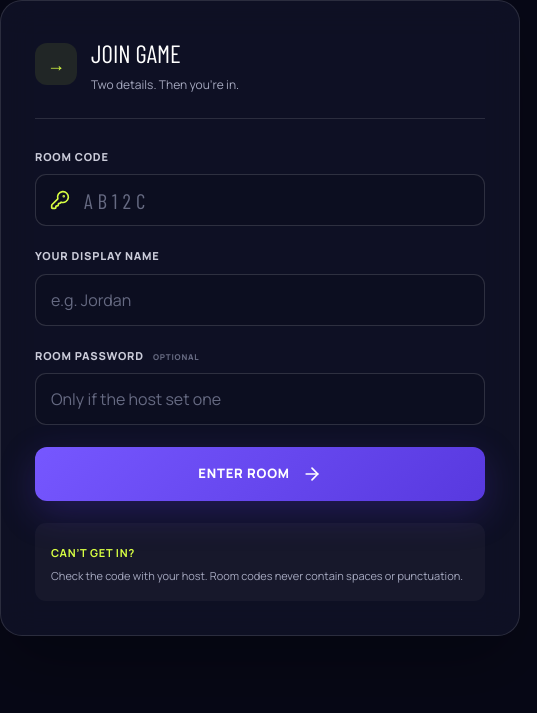
Test: JoinGameForm › rejects malformed room codes
The width and height of the screenshot is (537, 713).
Type "x!" into the field labelled "Room code" at (260,200), box [35,174,485,226]
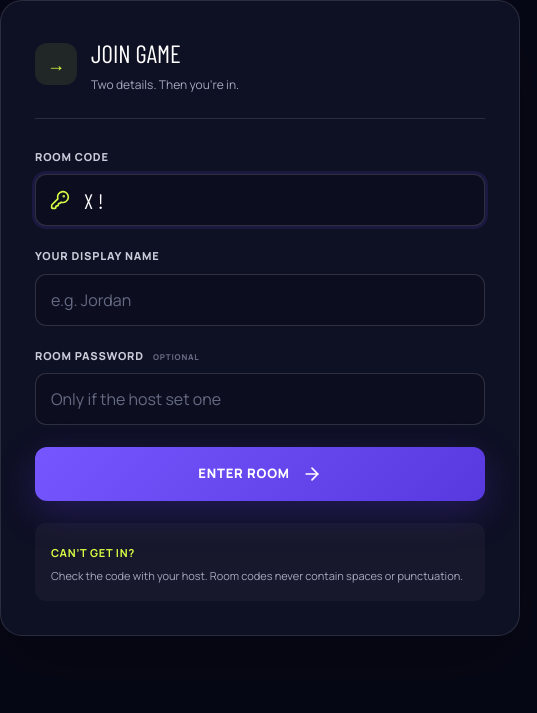
Type "Jordan" into the field labelled "Your display name" at (260,300), box [35,274,485,326]
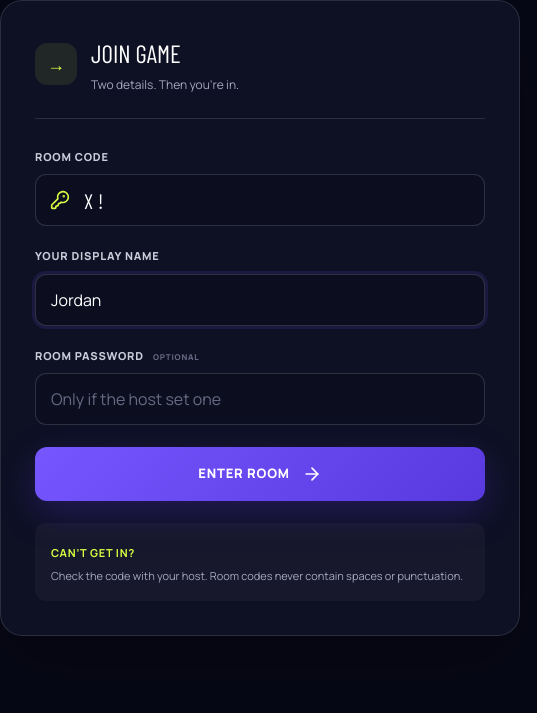
Click the button "Enter room" at (260,474), box [35,447,485,501]
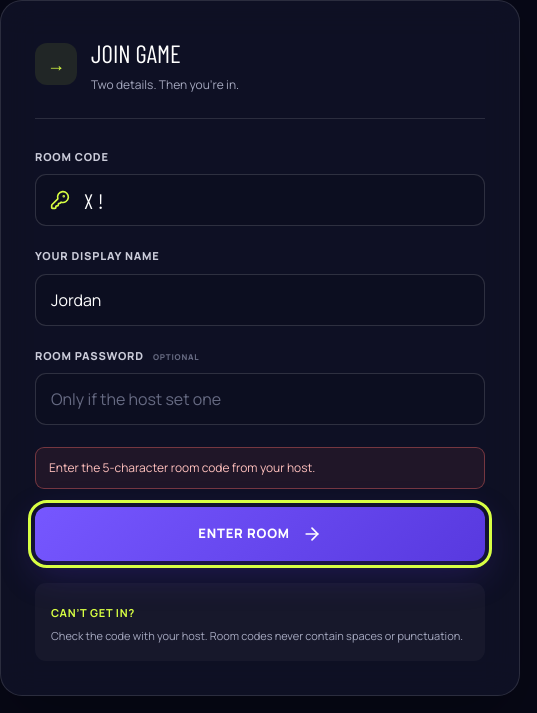
Result: the message shows "5-character room code" at [49,459,315,476]
